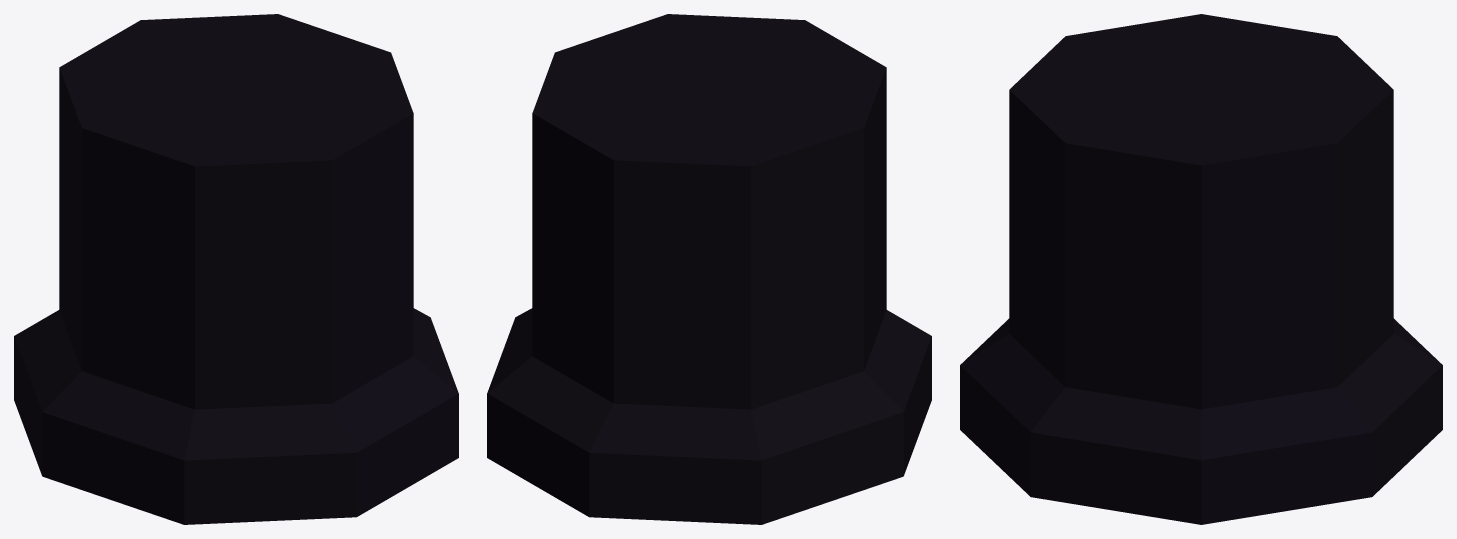
Rendered from HatCylinder.fbx.
3 views of the same model, side by side, from view 1: azimuth 30°, elevation 25°; view 2: azimuth 150°, elevation 25°; view 3: azimuth 270°, elevation 25° (orthographic).
Visible parts, largest first — view 1: hat-cylinder; view 2: hat-cylinder; view 3: hat-cylinder.
Boxes of the visible parts, box(x1,y1,x2,y2) form: hat-cylinder: box(14, 14, 458, 524); hat-cylinder: box(487, 14, 931, 524); hat-cylinder: box(960, 14, 1442, 524).
Size of the model in its own units: 31.11 by 25.95 by 33.38.
